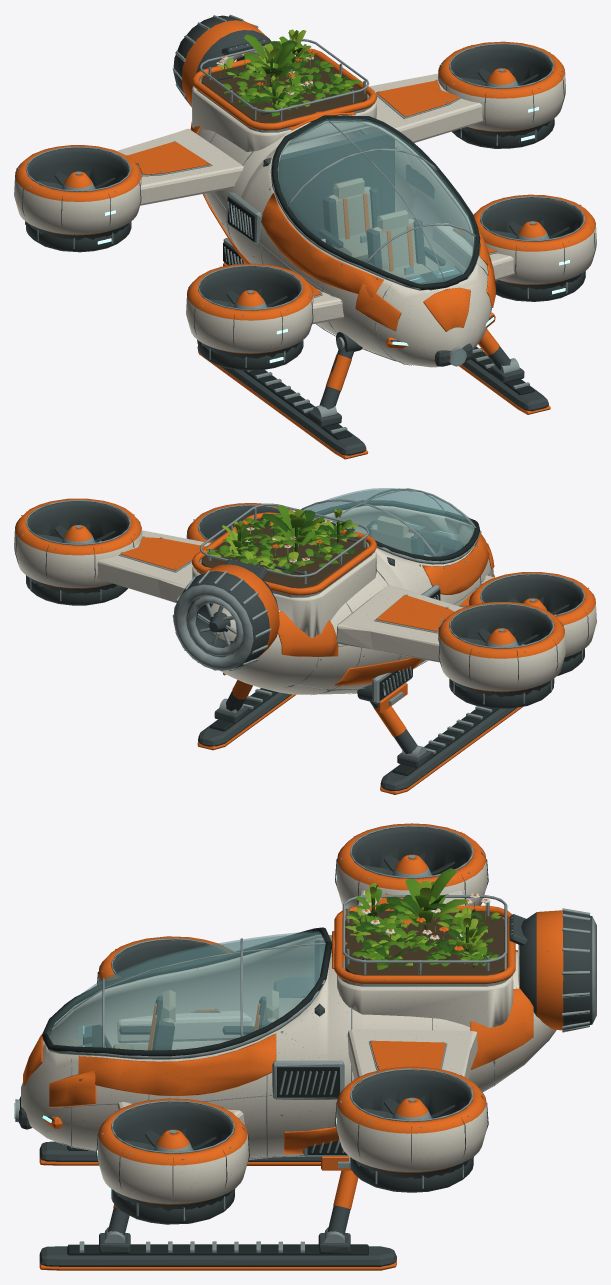
The model's file is ship_astra.glb.
The picture shows the model from 3 angles, top to bottom: view 1: azimuth 30°, elevation 25°; view 2: azimuth 150°, elevation 25°; view 3: azimuth 270°, elevation 25°; orthographic projection. The views are drawn at different scales.
Visible parts, largest first — view 1: Cockpit_Canopy, Fuselage • continuous pressure shell, Cockpit • seats, harnesses & flight controls, Turbine_FL • duct & stator, Turbine_RL • duct & stator, Roof garden • planter, rail & irrigation, Turbine_RR • duct & stator, Turbine_FR • duct & stator, Fuselage • orange removable panels, Rear wing • port, Landing_Skid_L, Roof garden • layered broadleaf planting (+13 smaller); view 2: Fuselage • continuous pressure shell, Turbine_RL • duct & stator, Turbine_RR • duct & stator, Aft • thermal exchanger & exhaust, Roof garden • planter, rail & irrigation, Cockpit_Canopy, Rear wing • port, Roof garden • layered broadleaf planting, Turbine_FL • duct & stator, Landing_Skid_L, Fuselage • orange removable panels, Rear wing • starboard (+9 smaller); view 3: Fuselage • continuous pressure shell, Cockpit_Canopy, Turbine_FR • duct & stator, Turbine_RR • duct & stator, Roof garden • planter, rail & irrigation, Fuselage • orange removable panels, Landing_Skid_R, Aft • thermal exchanger & exhaust, Turbine_RL • duct & stator, Roof garden • layered broadleaf planting, Cockpit • frame & weather seals, Rear wing • starboard (+11 smaller).
Boxes of the visible parts, left/top/right/bottom form: Cockpit_Canopy: left=277, top=118, right=475, bottom=284; Fuselage • continuous pressure shell: left=198, top=115, right=491, bottom=367; Cockpit • seats, harnesses & flight controls: left=263, top=131, right=463, bottom=290; Turbine_FL • duct & stator: left=186, top=263, right=313, bottom=370; Turbine_RL • duct & stator: left=14, top=145, right=141, bottom=252; Roof garden • planter, rail & irrigation: left=192, top=39, right=376, bottom=151; Turbine_RR • duct & stator: left=438, top=41, right=565, bottom=148; Turbine_FR • duct & stator: left=473, top=194, right=596, bottom=301; Fuselage • orange removable panels: left=190, top=111, right=496, bottom=331; Rear wing • port: left=117, top=129, right=243, bottom=205; Landing_Skid_L: left=197, top=332, right=368, bottom=459; Roof garden • layered broadleaf planting: left=219, top=29, right=361, bottom=116; Fuselage • continuous pressure shell: left=211, top=505, right=492, bottom=694; Turbine_RL • duct & stator: left=438, top=602, right=565, bottom=708; Turbine_RR • duct & stator: left=14, top=498, right=142, bottom=605; Aft • thermal exchanger & exhaust: left=172, top=559, right=279, bottom=670; Roof garden • planter, rail & irrigation: left=192, top=503, right=376, bottom=637; Cockpit_Canopy: left=301, top=488, right=474, bottom=556; Rear wing • port: left=336, top=585, right=463, bottom=662; Roof garden • layered broadleaf planting: left=205, top=505, right=358, bottom=575; Turbine_FL • duct & stator: left=469, top=572, right=596, bottom=675; Landing_Skid_L: left=357, top=684, right=522, bottom=794; Fuselage • orange removable panels: left=277, top=533, right=494, bottom=685; Rear wing • starboard: left=97, top=530, right=210, bottom=602; Fuselage • continuous pressure shell: left=21, top=935, right=556, bottom=1159; Cockpit_Canopy: left=47, top=931, right=325, bottom=1050; Turbine_FR • duct & stator: left=96, top=1098, right=249, bottom=1224; Turbine_RR • duct & stator: left=335, top=1066, right=488, bottom=1192; Roof garden • planter, rail & irrigation: left=334, top=895, right=515, bottom=1027; Fuselage • orange removable panels: left=23, top=931, right=533, bottom=1154; Landing_Skid_R: left=39, top=1170, right=396, bottom=1270; Aft • thermal exchanger & exhaust: left=509, top=908, right=596, bottom=1032; Turbine_RL • duct & stator: left=335, top=823, right=488, bottom=909; Roof garden • layered broadleaf planting: left=345, top=868, right=501, bottom=969; Cockpit • frame & weather seals: left=42, top=927, right=331, bottom=1059; Rear wing • starboard: left=347, top=1029, right=477, bottom=1079.
Size of the model in its own units: 7.5 by 3.72 by 6.
12 materials, 2 textured.
